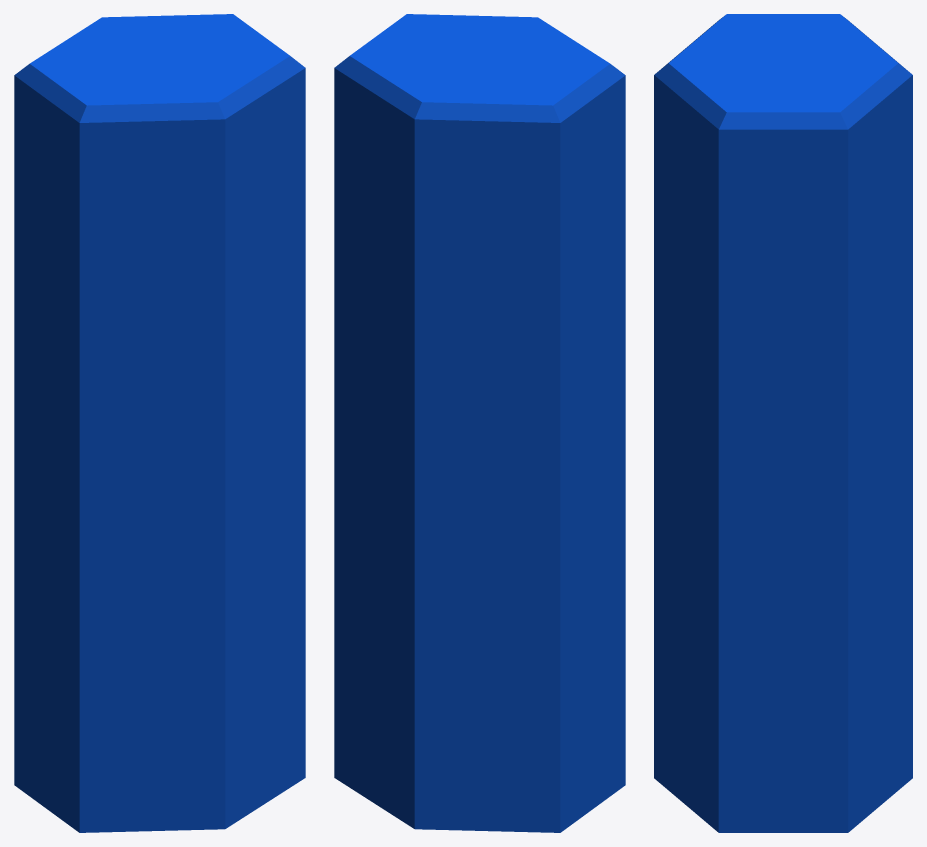
File: Hexagon.fbx
3 views of the same model, side by side, from view 1: azimuth 30°, elevation 25°; view 2: azimuth 150°, elevation 25°; view 3: azimuth 270°, elevation 25° (orthographic).
Parts seen in each view (by area): view 1: Hexagon_B; view 2: Hexagon_B; view 3: Hexagon_B.
Part boxes in pixels (x1,y1,x2,y2): Hexagon_B: (14, 14, 305, 832); Hexagon_B: (334, 14, 625, 832); Hexagon_B: (654, 14, 912, 832).
Size of the model in its own units: 100 by 305 by 100.
